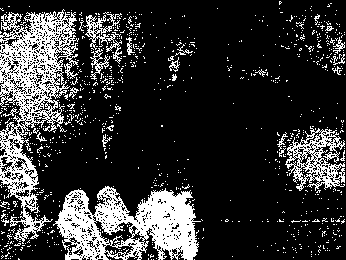person: (96, 185, 144, 257), (58, 190, 102, 260)
